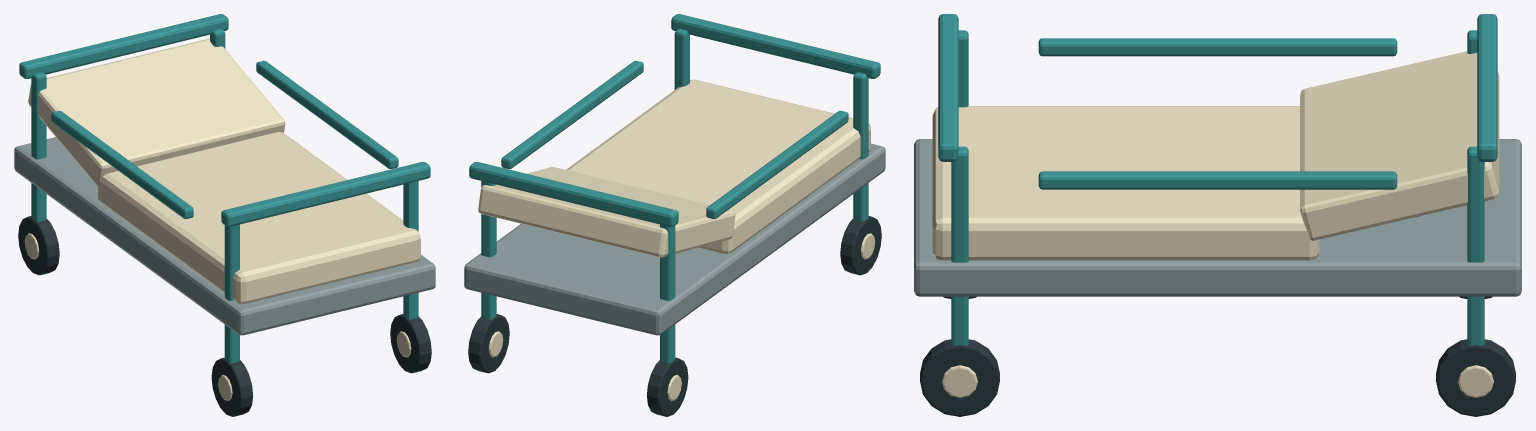
Rendered from S047_hospital_bed.glb.
3 views of the same model, side by side, from view 1: azimuth 30°, elevation 25°; view 2: azimuth 150°, elevation 25°; view 3: azimuth 270°, elevation 25° (orthographic). The views are drawn at different scales.
Visible parts, largest first — view 1: bed_mattress, raised_backrest, bed_frame, bed_end_rail, bed_end_rail.001, safety_rail, safety_rail.001, caster_tire.002, caster_tire, caster_tire.001, bed_post.001, bed_post (+1 smaller); view 2: bed_mattress, bed_frame, raised_backrest, bed_end_rail.001, bed_end_rail, safety_rail, safety_rail.001, bed_post, caster_tire.003, caster_tire.001, caster_tire, bed_post.001 (+2 smaller); view 3: bed_mattress, bed_frame, raised_backrest, safety_rail, safety_rail.001, caster_tire.002, caster_tire.003, bed_end_rail, bed_end_rail.001, bed_post.002, bed_post.003, caster_hub.002 (+2 smaller).
Boxes of the visible parts, x1,y1,x2,y2 form: bed_mattress: (97, 132, 420, 304); raised_backrest: (28, 38, 285, 186); bed_frame: (14, 137, 435, 335); bed_end_rail: (221, 162, 430, 226); bed_end_rail.001: (19, 14, 228, 78); safety_rail: (51, 110, 193, 218); safety_rail.001: (256, 60, 398, 168); caster_tire.002: (390, 314, 431, 373); caster_tire: (211, 357, 253, 416); caster_tire.001: (18, 216, 59, 275); bed_post.001: (31, 72, 46, 221); bed_post: (224, 224, 239, 363); bed_mattress: (566, 79, 870, 253); bed_frame: (464, 143, 885, 335); raised_backrest: (478, 167, 735, 257); bed_end_rail.001: (469, 162, 678, 226); bed_end_rail: (671, 14, 880, 78); safety_rail: (706, 110, 848, 218); safety_rail.001: (501, 60, 643, 168); bed_post: (853, 72, 868, 221); caster_tire.003: (468, 314, 509, 373); caster_tire.001: (646, 357, 688, 416); caster_tire: (840, 216, 881, 275); bed_post.001: (660, 224, 675, 363); bed_mattress: (932, 106, 1319, 260); bed_frame: (914, 139, 1521, 296); raised_backrest: (1300, 51, 1499, 240); safety_rail: (1038, 38, 1397, 56); safety_rail.001: (1038, 171, 1397, 189); caster_tire.002: (920, 339, 999, 416); caster_tire.003: (1436, 339, 1515, 416); bed_end_rail: (938, 14, 958, 161); bed_end_rail.001: (1477, 14, 1497, 161); bed_post.002: (951, 146, 968, 345); bed_post.003: (1467, 146, 1484, 345); caster_hub.002: (942, 365, 977, 397).
Size of the model in its own units: 1.16 by 1.06 by 2.12.
